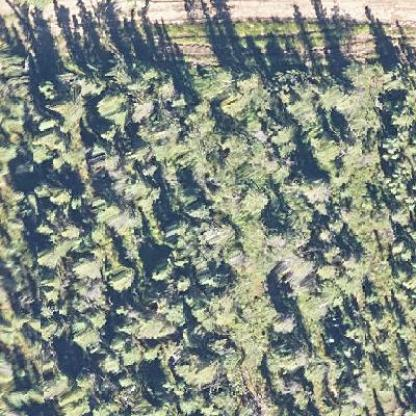tree-top: (206, 61, 257, 110), (172, 345, 223, 387), (270, 332, 312, 372), (34, 174, 76, 208), (296, 170, 334, 205), (338, 53, 373, 85), (105, 258, 137, 289), (270, 306, 300, 336)
